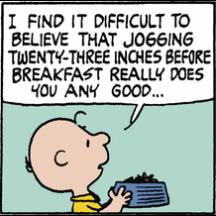snoopy: (24, 110, 134, 214)
